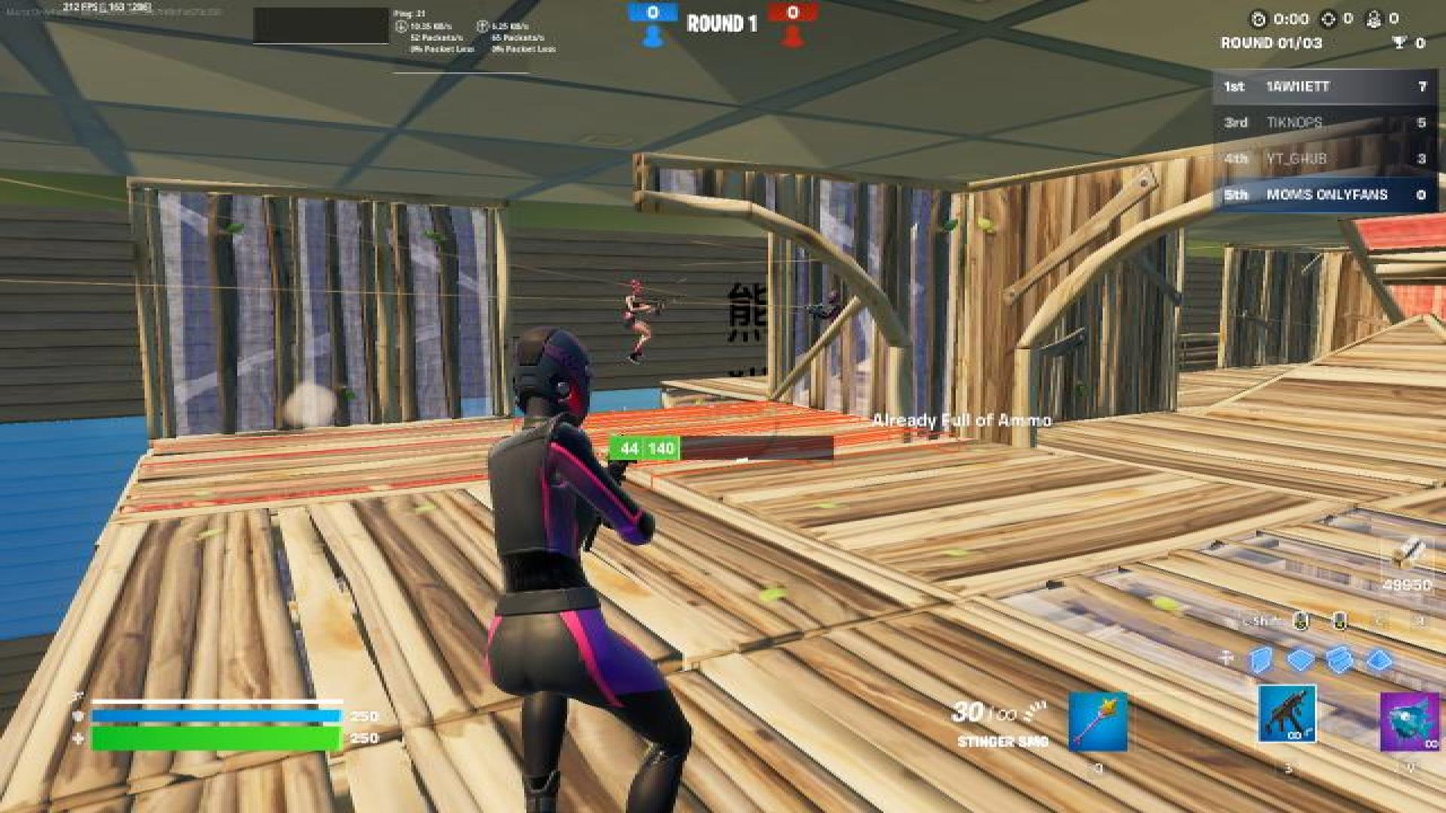player: (609, 278, 665, 367), (809, 288, 850, 320)
